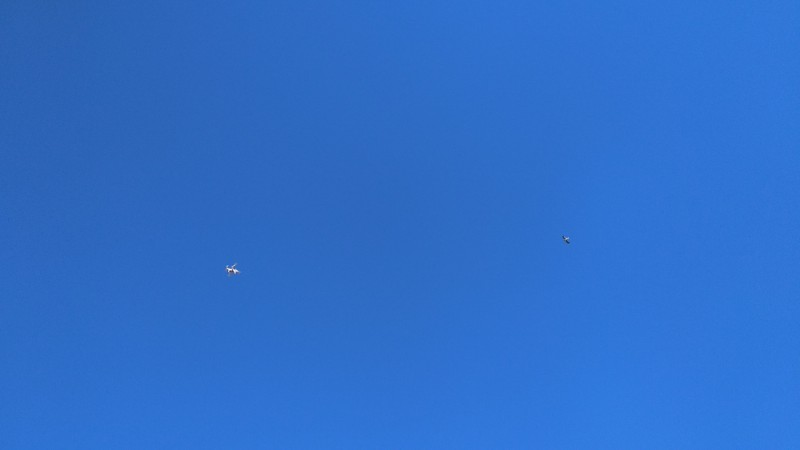drone: (223, 260, 241, 278)
